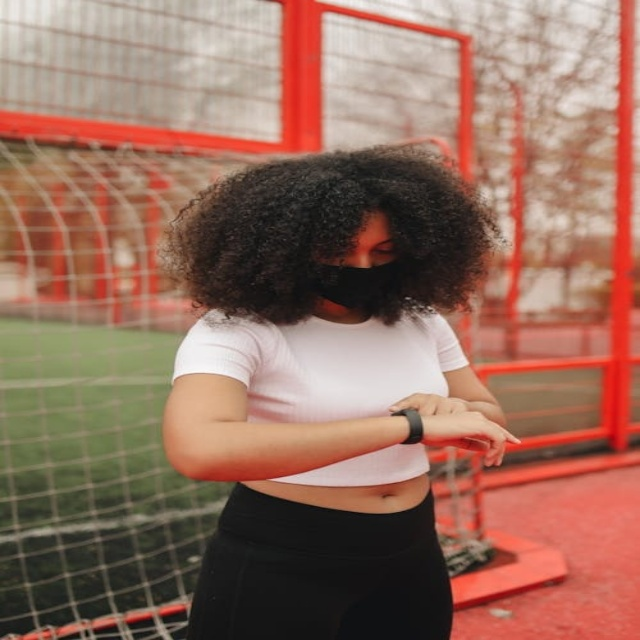Mascara: (307, 256, 408, 311)
Sin_gafas: (351, 238, 402, 257)
Sin_guantes: (390, 392, 518, 458)
